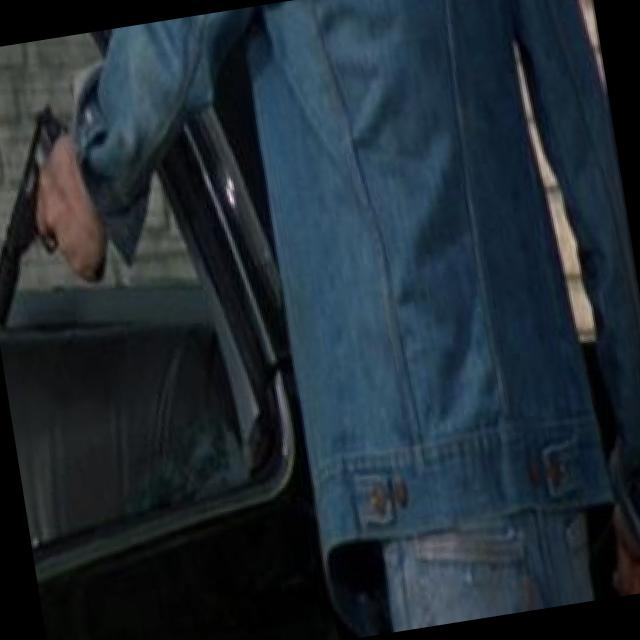Guns: (0, 57, 127, 348)
